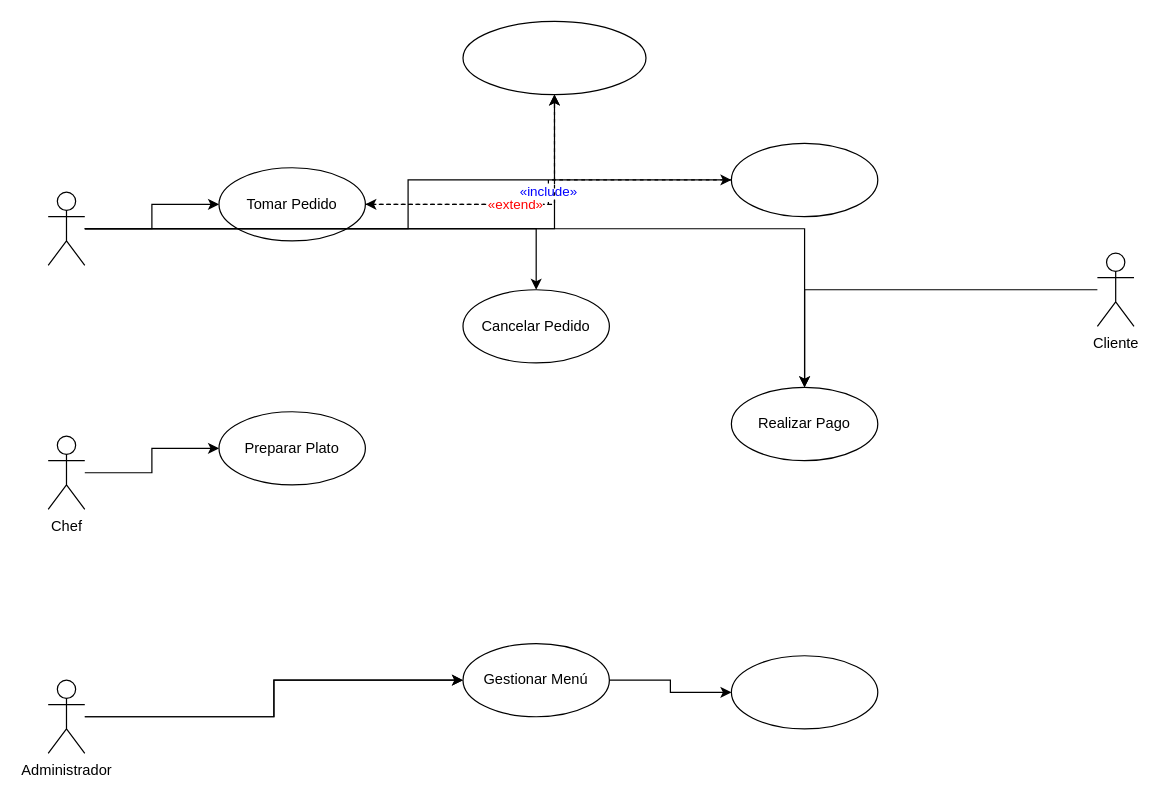
Image size: 1159x800. Some labels were removed from this diagram. Here are the shapes that lost their labels. From the top down, the centre of each, then its label:
At point 554,57: "Consultar Disponibilidad".
At point 804,179: "Calcular Total".
At point 66,228: "Mesero".
At point 804,692: "Generar Reporte".
